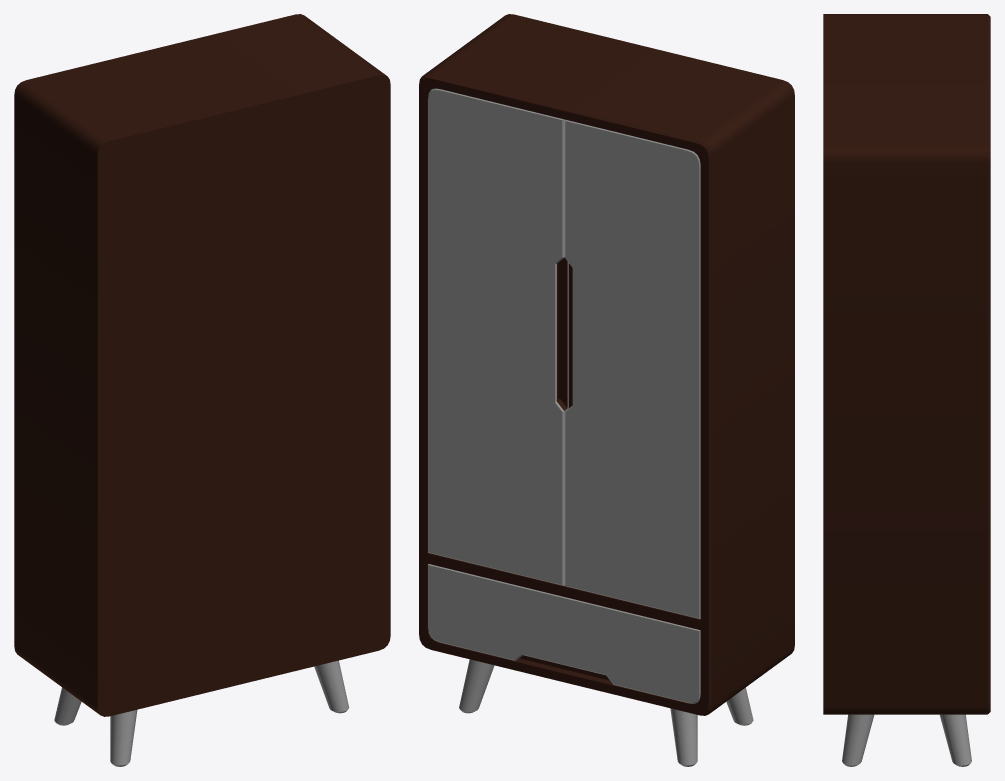
The model's file is h-004_wardrobe_01-01_F.FBX.
3 views of the same model, side by side, from view 1: azimuth 30°, elevation 25°; view 2: azimuth 150°, elevation 25°; view 3: azimuth 270°, elevation 25° (orthographic).
Parts seen in each view (by area): view 1: h-004_wardrobe_01-01_frame; view 2: h-004_wardrobe_01-01_frame, h-004_wardrobe_01-01_door_L, h-004_wardrobe_01-01_door_R, h-004_wardrobe_01-01_drawer; view 3: h-004_wardrobe_01-01_frame.
Part boxes in pixels (bbox=[...]): h-004_wardrobe_01-01_frame: bbox=[14, 14, 390, 766]; h-004_wardrobe_01-01_frame: bbox=[419, 14, 794, 766]; h-004_wardrobe_01-01_door_L: bbox=[428, 88, 568, 585]; h-004_wardrobe_01-01_door_R: bbox=[565, 119, 700, 619]; h-004_wardrobe_01-01_drawer: bbox=[428, 564, 700, 703]; h-004_wardrobe_01-01_frame: bbox=[823, 14, 990, 766].
Size of the model in its own units: 12 by 25 by 6.
